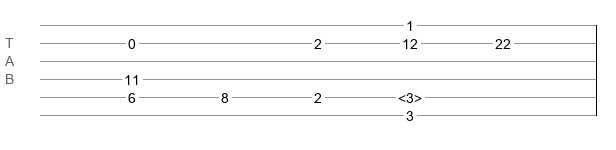0: (128, 36, 136, 46)
1: (406, 18, 414, 28)
11: (124, 72, 140, 82)
12: (402, 36, 418, 46)
2: (314, 36, 322, 46), (314, 90, 322, 100)
22: (495, 36, 511, 46)
3: (406, 108, 414, 118)
6: (128, 90, 136, 100)
8: (221, 90, 229, 100)
harmonic: (398, 90, 422, 100)
